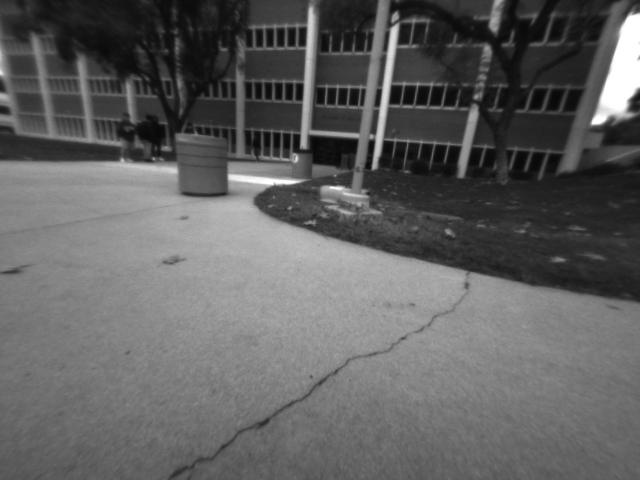trashcan: (170, 123, 237, 203), (286, 145, 317, 185)
